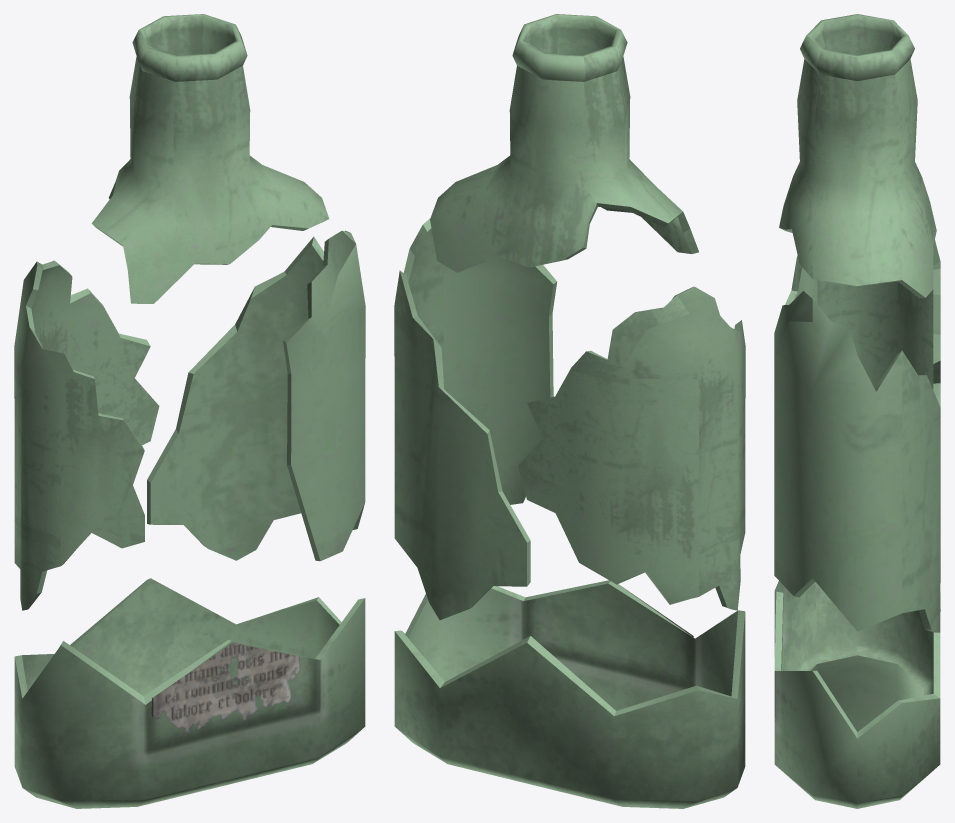
The model's file is bottle_absinthe_broken.dae.
The picture shows the model from 3 angles, left to right: view 1: azimuth 30°, elevation 25°; view 2: azimuth 150°, elevation 25°; view 3: azimuth 270°, elevation 25°; orthographic projection. The views are drawn at different scales.
Visible parts, largest first — view 1: polySurface10, polySurface8, polySurface2, polySurface9, absinthe_bottle_label; view 2: polySurface10, polySurface9, polySurface8, polySurface2; view 3: polySurface8, polySurface2, polySurface10, polySurface9.
Boxes of the visible parts, x1,y1,x2,y2 form: polySurface10: (14,578,365,808); polySurface8: (147,230,365,561); polySurface2: (91,14,329,303); polySurface9: (14,260,159,610); absinthe_bottle_label: (151,643,300,733); polySurface10: (394,580,745,808); polySurface9: (518,286,745,610); polySurface8: (394,218,557,619); polySurface2: (430,14,698,272); polySurface8: (774,291,940,632); polySurface2: (779,14,936,297); polySurface10: (774,581,940,808); polySurface9: (785,240,940,406).
Bounding box in the file's own units: 0.147 × 0.303 × 0.0652.
